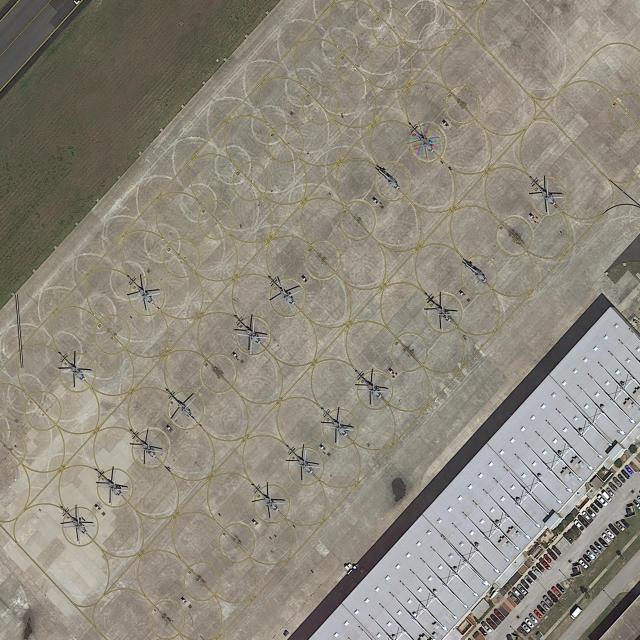small-vehicle: (607, 523, 620, 536), (539, 557, 551, 571), (597, 494, 609, 508), (601, 490, 613, 504), (563, 532, 575, 546), (481, 621, 493, 634), (493, 608, 505, 621), (508, 592, 520, 605), (551, 544, 563, 557), (516, 583, 528, 595), (585, 507, 597, 519), (524, 616, 535, 629), (513, 588, 524, 601), (486, 617, 497, 630), (490, 613, 501, 626), (578, 559, 589, 571), (543, 595, 554, 607), (540, 600, 551, 612), (615, 521, 626, 533), (574, 520, 585, 532), (532, 566, 543, 577), (605, 529, 616, 540), (589, 545, 600, 556), (598, 537, 609, 548), (608, 481, 619, 492), (522, 622, 532, 634), (529, 613, 539, 625), (547, 590, 557, 602), (552, 586, 562, 598), (582, 553, 592, 565), (579, 516, 589, 528), (602, 533, 612, 544), (587, 550, 597, 561), (542, 553, 552, 564), (524, 575, 534, 586), (536, 604, 546, 615), (533, 609, 543, 620), (520, 579, 530, 590), (625, 465, 635, 476), (621, 469, 631, 480), (612, 477, 622, 488), (549, 551, 559, 562), (555, 583, 565, 593), (594, 499, 603, 510), (606, 487, 615, 498), (536, 563, 545, 573), (528, 571, 537, 581), (594, 541, 603, 551), (591, 504, 600, 514), (617, 474, 626, 484), (582, 511, 591, 521), (621, 519, 630, 528)
